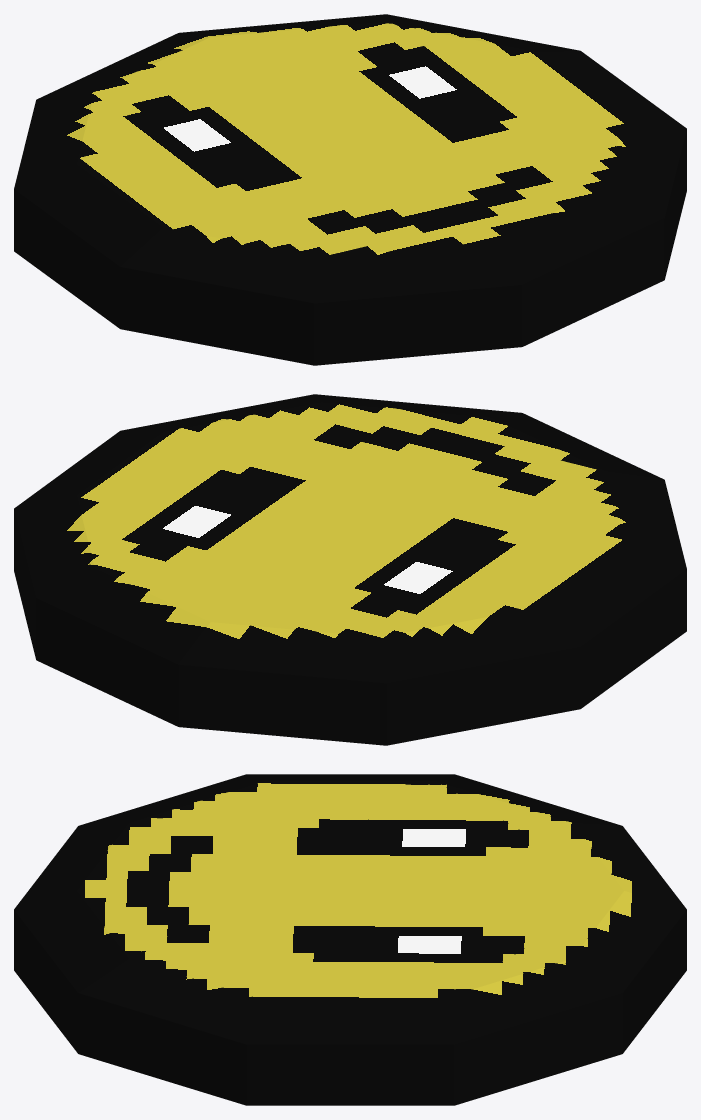
File: coin_2.glb
3 views of the same model, one above another, from view 1: azimuth 30°, elevation 25°; view 2: azimuth 150°, elevation 25°; view 3: azimuth 270°, elevation 25° (orthographic). The views are drawn at different scales.
Visible parts, largest first — view 1: COIN-convcol; view 2: COIN-convcol; view 3: COIN-convcol.
Boxes of the visible parts, x1=… form: COIN-convcol: x1=14, y1=14, x2=686, y2=365; COIN-convcol: x1=14, y1=394, x2=686, y2=745; COIN-convcol: x1=14, y1=774, x2=686, y2=1105.
Bounding box in the file's own units: 1.9 × 0.3226 × 2.
Materials: 1 (1 with a texture image).
